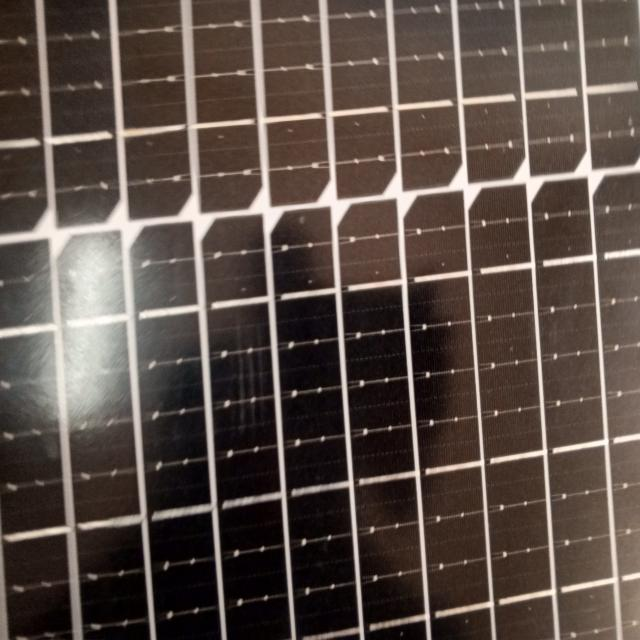Clean: (180, 9, 639, 640)
